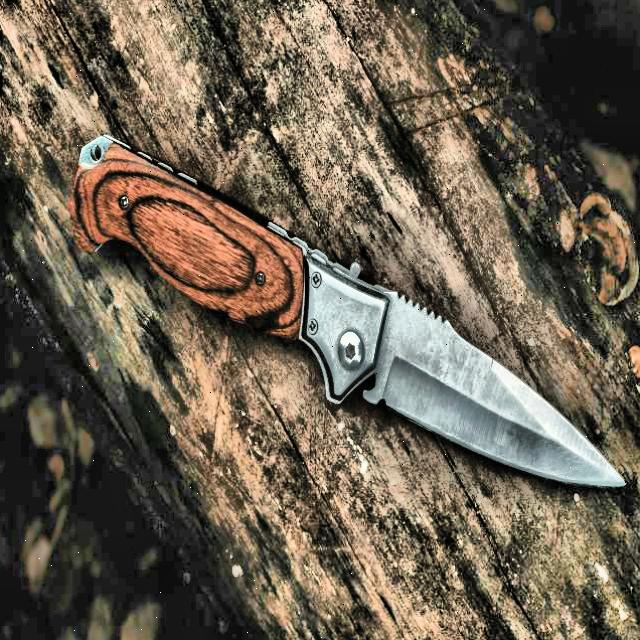knife: (78, 133, 627, 505)
